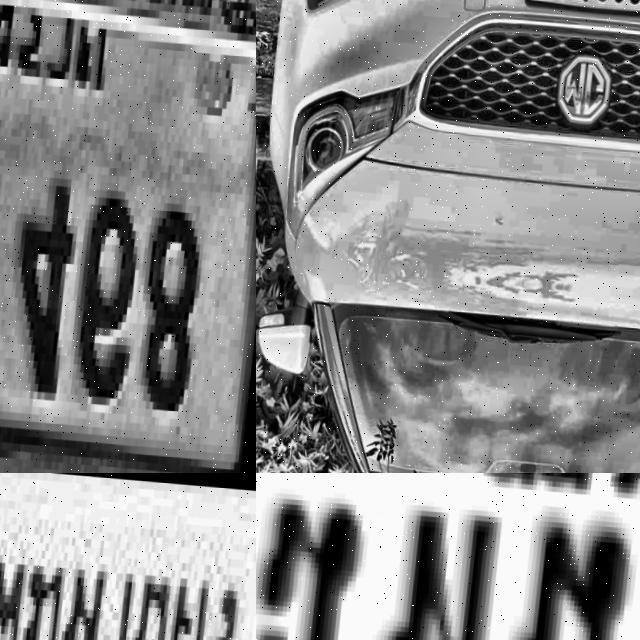license-plate: (0, 0, 256, 473), (256, 473, 640, 640), (0, 473, 256, 640)
